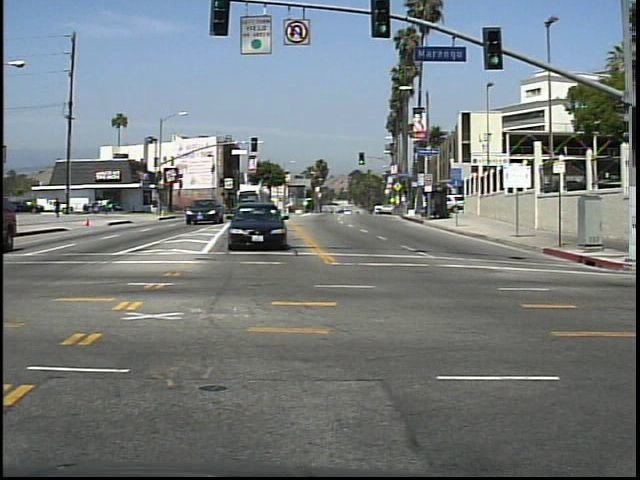person: (52, 195, 65, 220)
